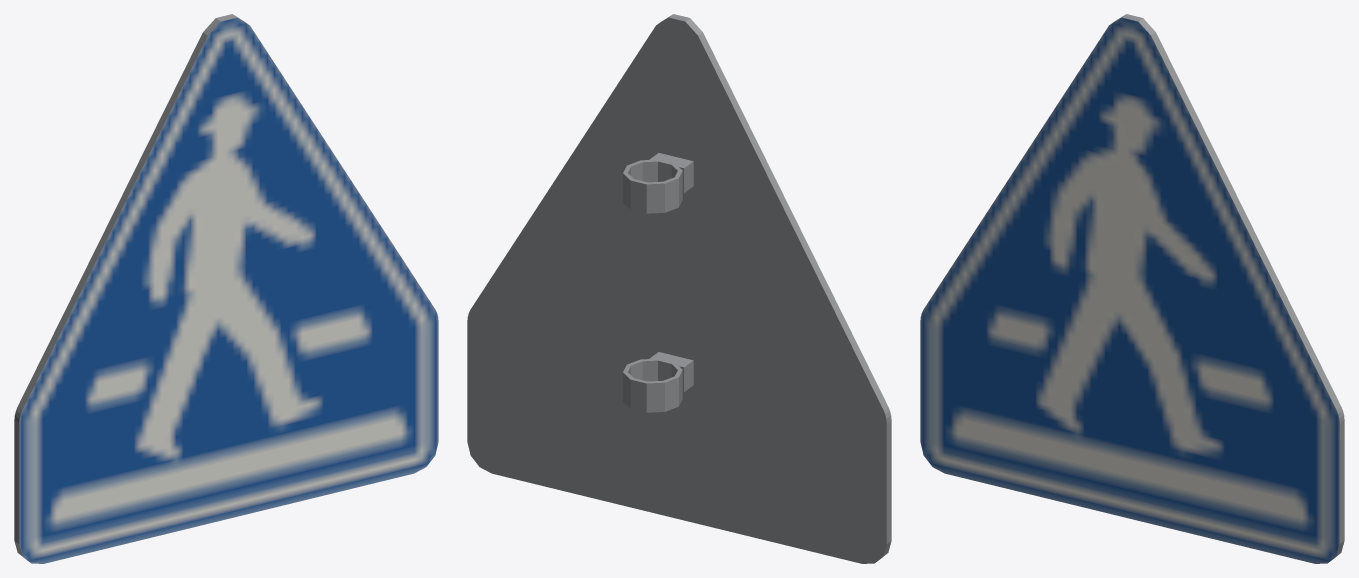
File: SM_Street_Sign_Crosswalk_01.fbx
The picture shows the model from 3 angles, left to right: view 1: azimuth 30°, elevation 25°; view 2: azimuth 150°, elevation 25°; view 3: azimuth 330°, elevation 25°; orthographic projection.
Parts seen in each view (by area): view 1: SM_Street_Sign_Crosswalk_01; view 2: SM_Street_Sign_Crosswalk_01; view 3: SM_Street_Sign_Crosswalk_01.
Part boxes in pixels (box(x1,y1,x2,y2)): SM_Street_Sign_Crosswalk_01: box(14, 14, 438, 563); SM_Street_Sign_Crosswalk_01: box(467, 14, 891, 563); SM_Street_Sign_Crosswalk_01: box(920, 14, 1344, 563).
Bounding box in the file's own units: 0.6 × 0.6825 × 0.1074.
Materials: 1 (1 with a texture image).
